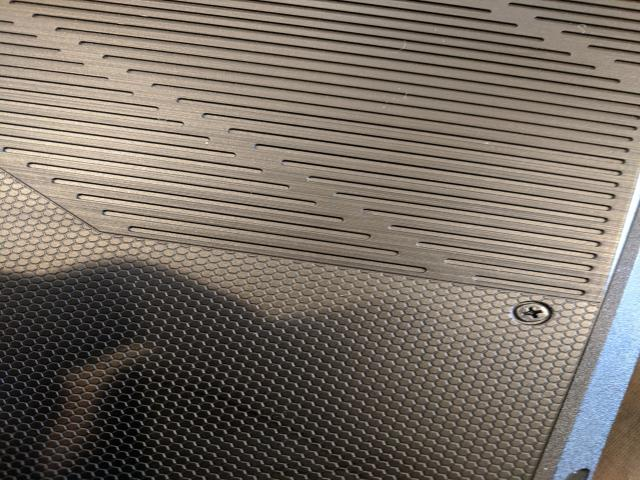CRS: (512, 301, 552, 322)
